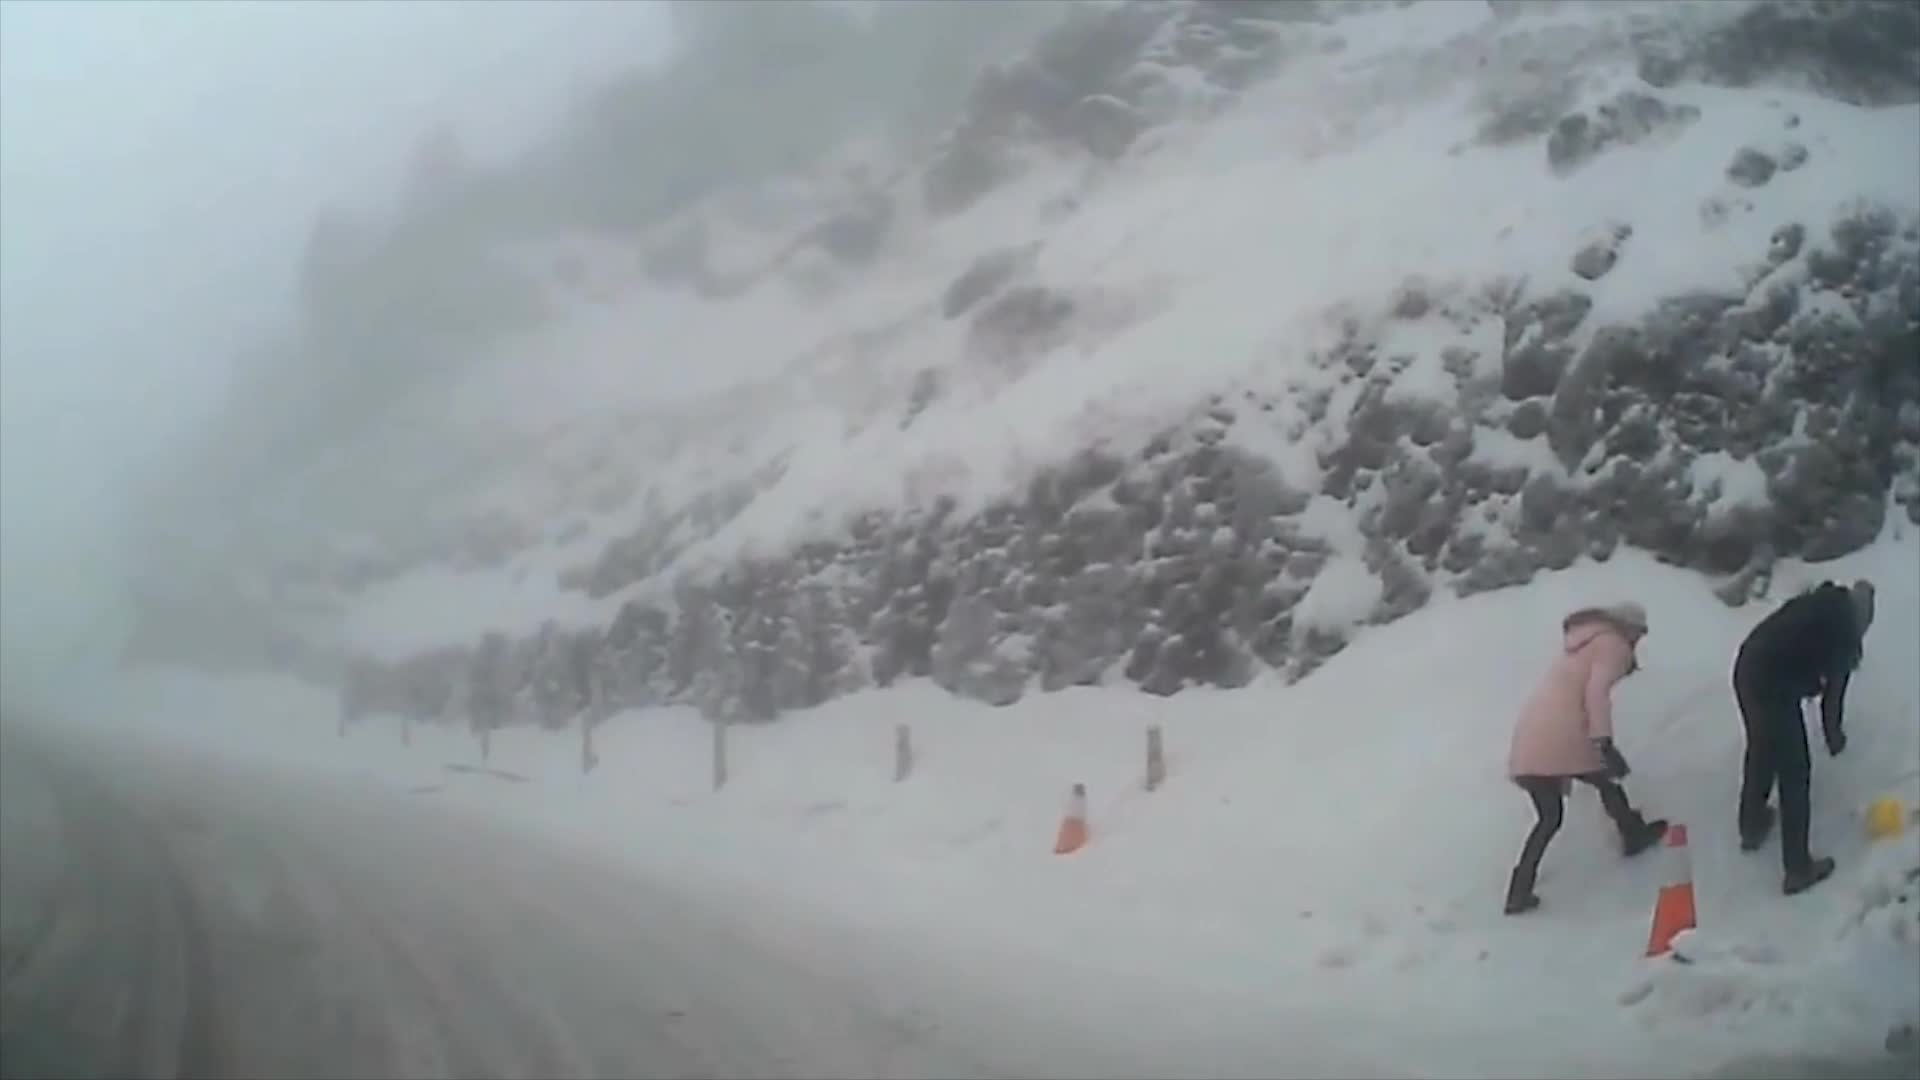pedestrian: (1506, 606, 1664, 917), (1735, 575, 1879, 898)
